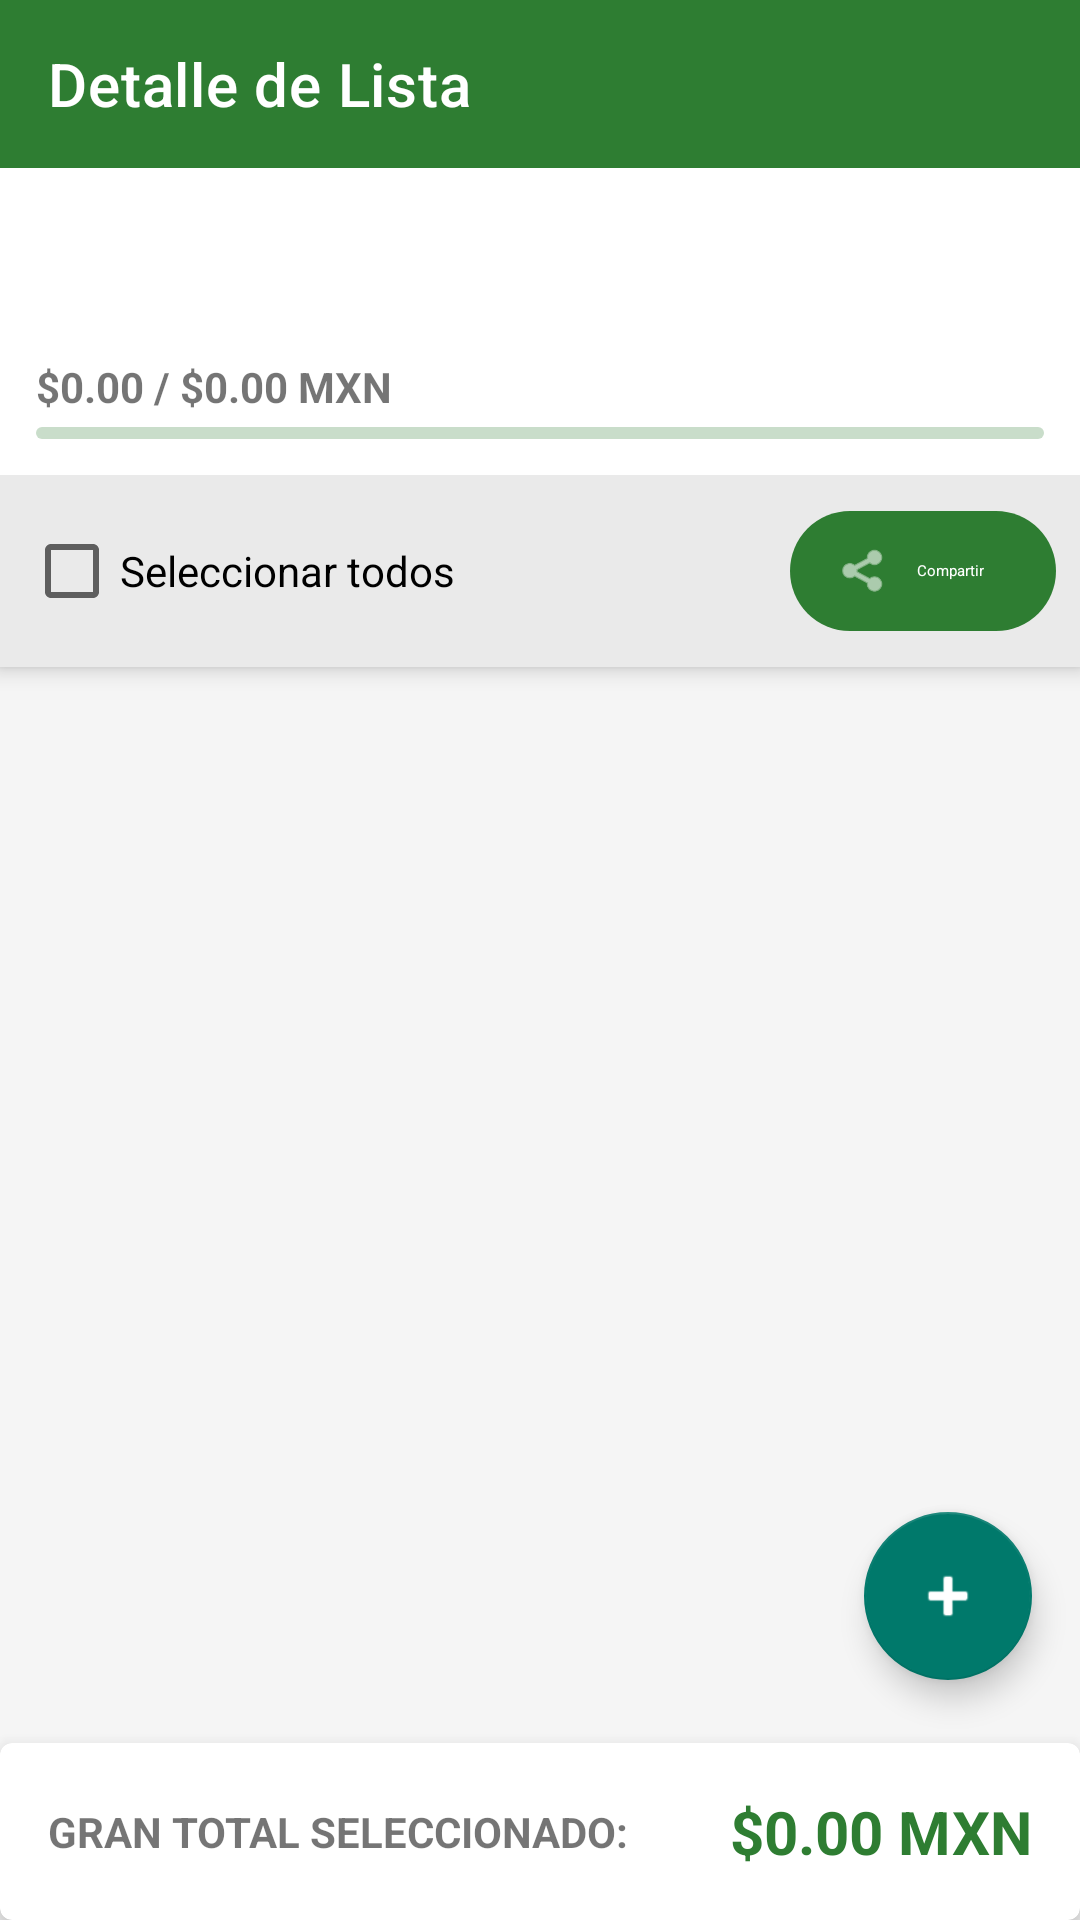

Where icons sit on this 1080*1920 app screen, as [x1=x1, y1=y1, x2=x2, y2=y2]:
add: [x1=864, y1=1512, x2=1032, y2=1680]
